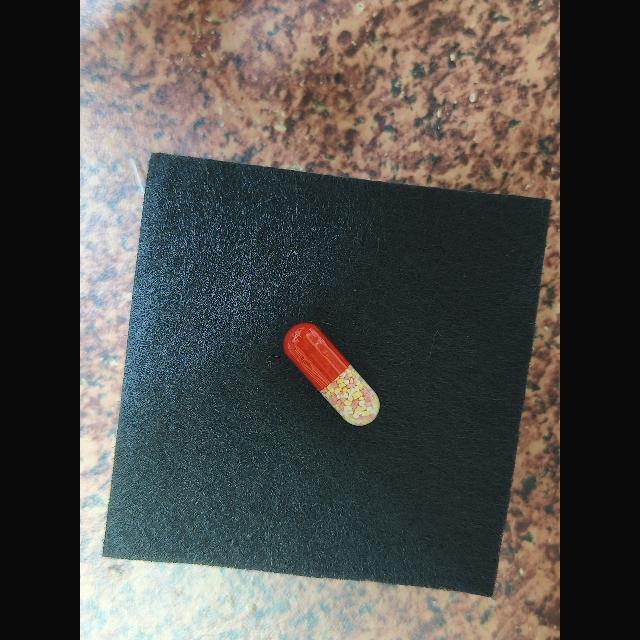Intact Capsule: (283, 323, 380, 426)
